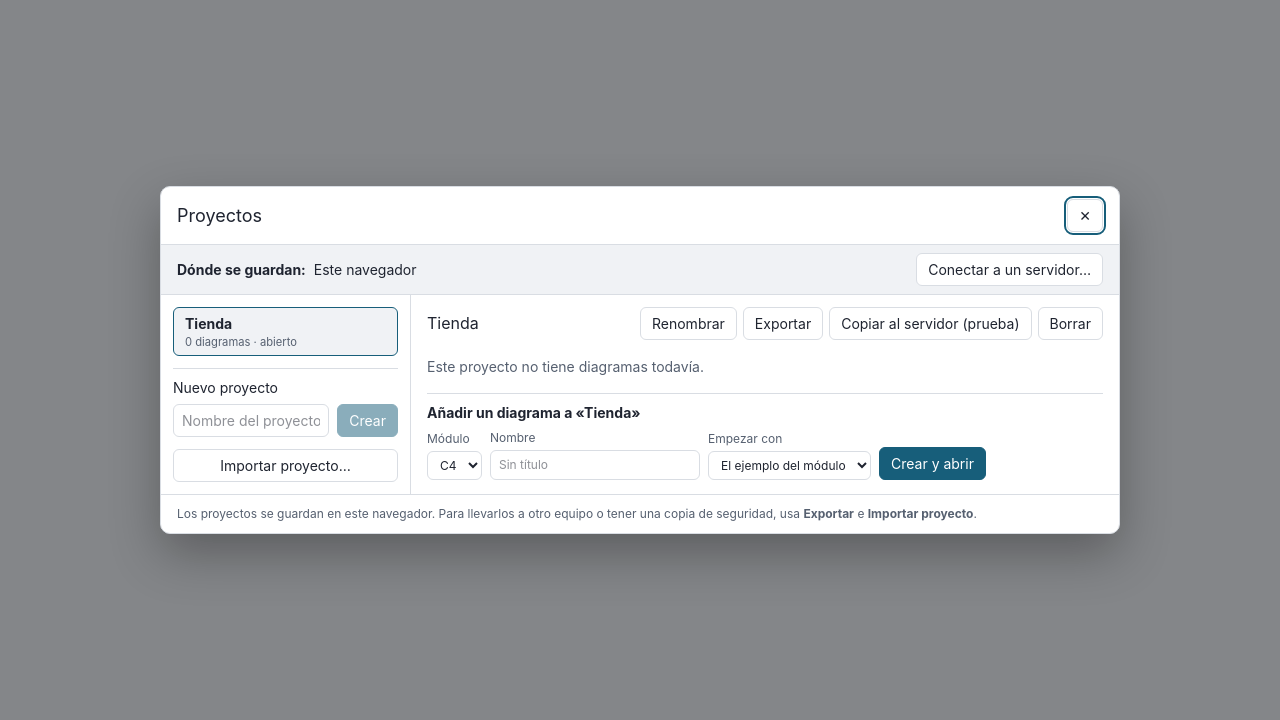
Test: gestor de proyectos con el almacén en la nube › con los proyectos en este navegador › un destino inyectado (otro almacén) recibe la copia sin tocar la sesión
Click the button "Copiar al servidor (prueba)" at (930, 323), box [829,307,1032,340]
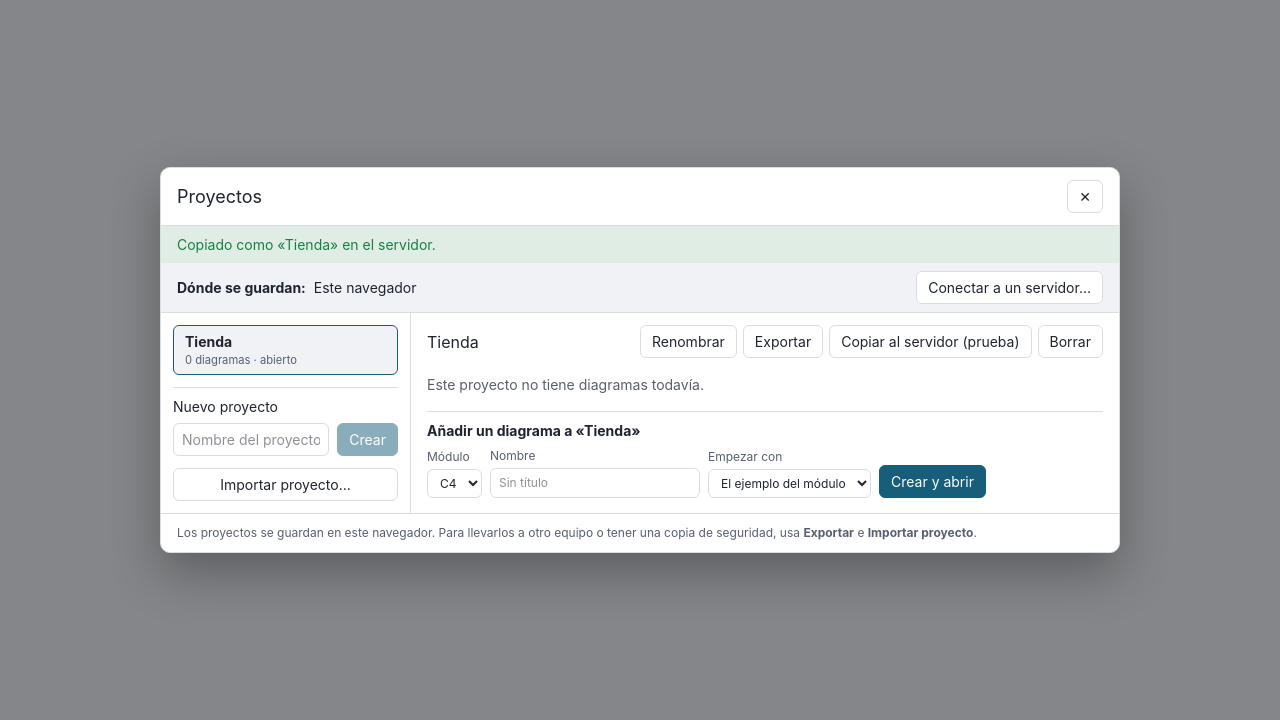
Check: the message with test id "projects-note" reads "Copiado como «Tienda» en el servidor.", box [177,236,436,253]
